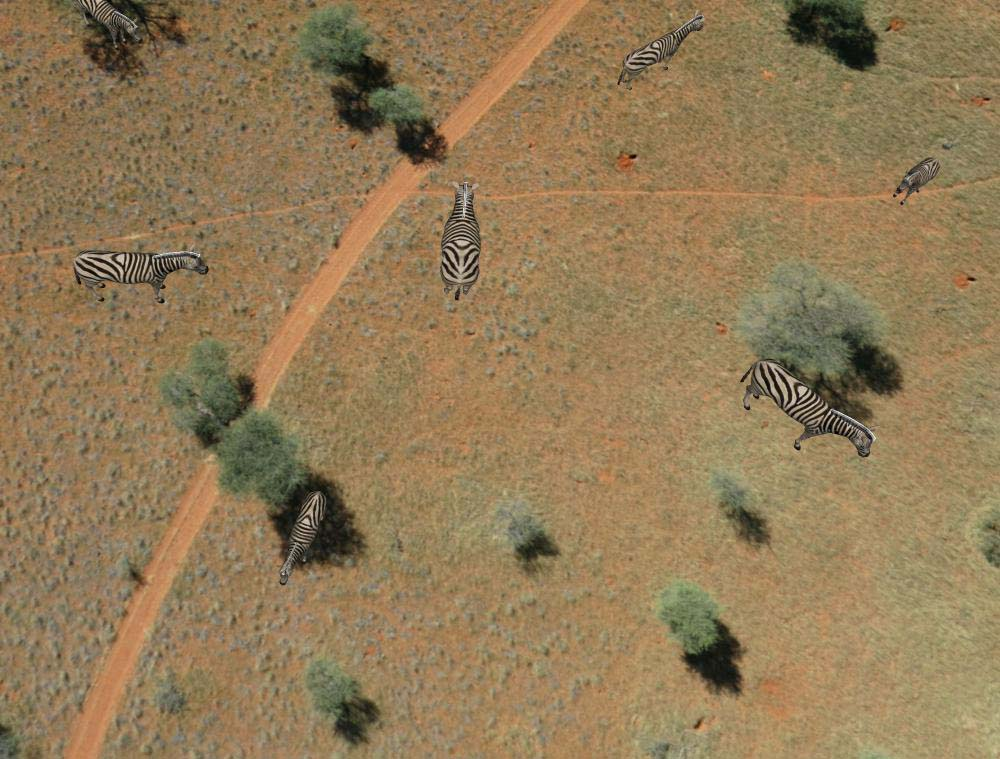zebra: (737, 354, 874, 465), (72, 240, 212, 310), (615, 7, 710, 89), (437, 175, 491, 300), (275, 483, 323, 586), (894, 151, 940, 208)
